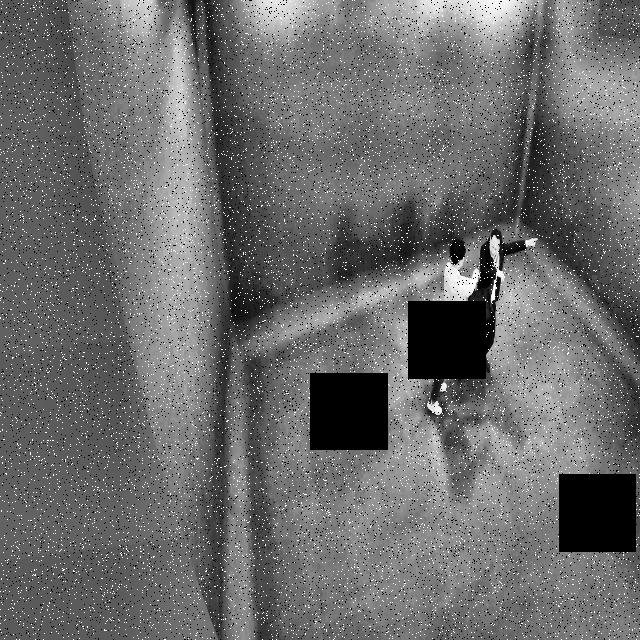assult: (422, 231, 544, 421)
